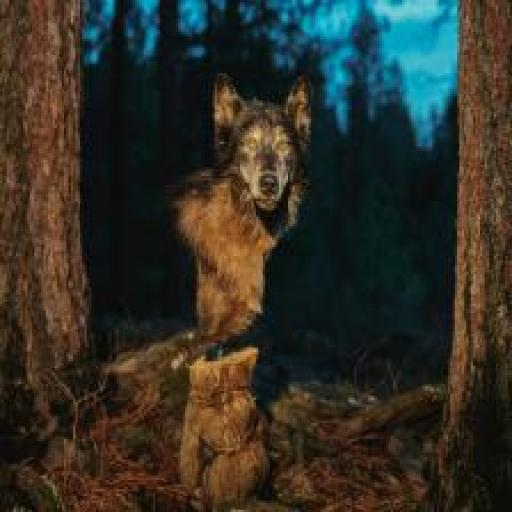wolf: (188, 78, 332, 275)
